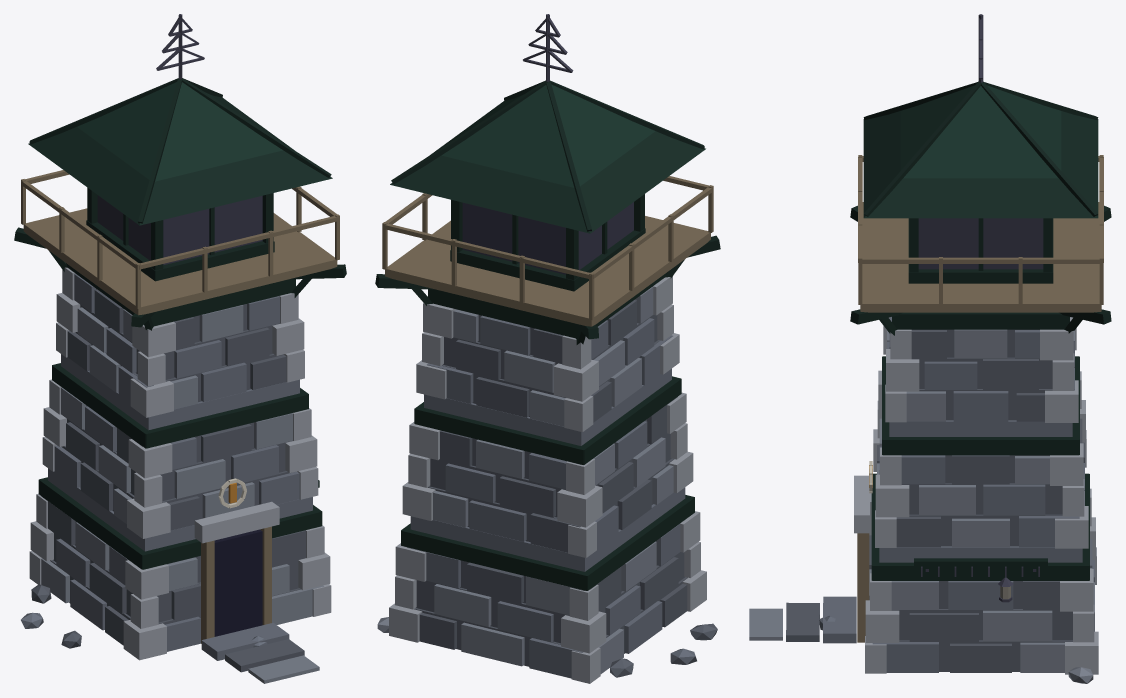
File: thornwold_beacon.glb
3 views of the same model, side by side, from view 1: azimuth 30°, elevation 25°; view 2: azimuth 150°, elevation 25°; view 3: azimuth 270°, elevation 25° (orthographic). The views are drawn at different scales.
Parts seen in each view (by area): view 1: slate_l30, slate_d5, slate_d20, pine_d62, driftwood_d40, slate_l8, pine_d55, pine_d45, ink_l12, ink, ink_l15; view 2: slate_d5, slate_d20, slate_l30, pine_d62, slate_l8, driftwood_d40, pine_d55, pine_d45, ink_l12, ink_l15; view 3: pine_d62, slate_d20, slate_d5, slate_l30, driftwood_d40, slate_l8, pine_d55, pine_d45, ink_l12, ink_l15.
Boxes of the visible parts, <box> form: slate_l30: <box>29,267,331,660</box>; slate_d5: <box>21,273,312,660</box>; slate_d20: <box>31,289,305,672</box>; pine_d62: <box>14,78,346,569</box>; driftwood_d40: <box>21,170,339,643</box>; slate_l8: <box>41,305,323,683</box>; pine_d55: <box>28,94,332,225</box>; pine_d45: <box>77,82,282,181</box>; ink_l12: <box>97,195,262,264</box>; ink: <box>214,529,262,636</box>; ink_l15: <box>156,14,204,79</box>; slate_d5: <box>407,315,696,678</box>; slate_d20: <box>414,299,717,677</box>; slate_l30: <box>389,276,706,683</box>; pine_d62: <box>375,80,720,590</box>; slate_l8: <box>377,287,673,673</box>; driftwood_d40: <box>382,176,713,326</box>; pine_d55: <box>390,97,705,233</box>; pine_d45: <box>441,84,655,187</box>; ink_l12: <box>462,202,633,274</box>; ink_l15: <box>523,14,573,81</box>; pine_d62: <box>850,81,1111,580</box>; slate_d20: <box>786,329,1094,672</box>; slate_d5: <box>819,317,1094,672</box>; slate_l30: <box>854,317,1098,674</box>; driftwood_d40: <box>857,155,1103,642</box>; slate_l8: <box>749,317,1094,683</box>; pine_d55: <box>863,111,1098,218</box>; pine_d45: <box>900,85,1061,178</box>; ink_l12: <box>918,218,1043,269</box>; ink_l15: <box>921,14,1039,602</box>.
Bounding box in the file's own units: 4.79 × 10.15 × 5.4.
